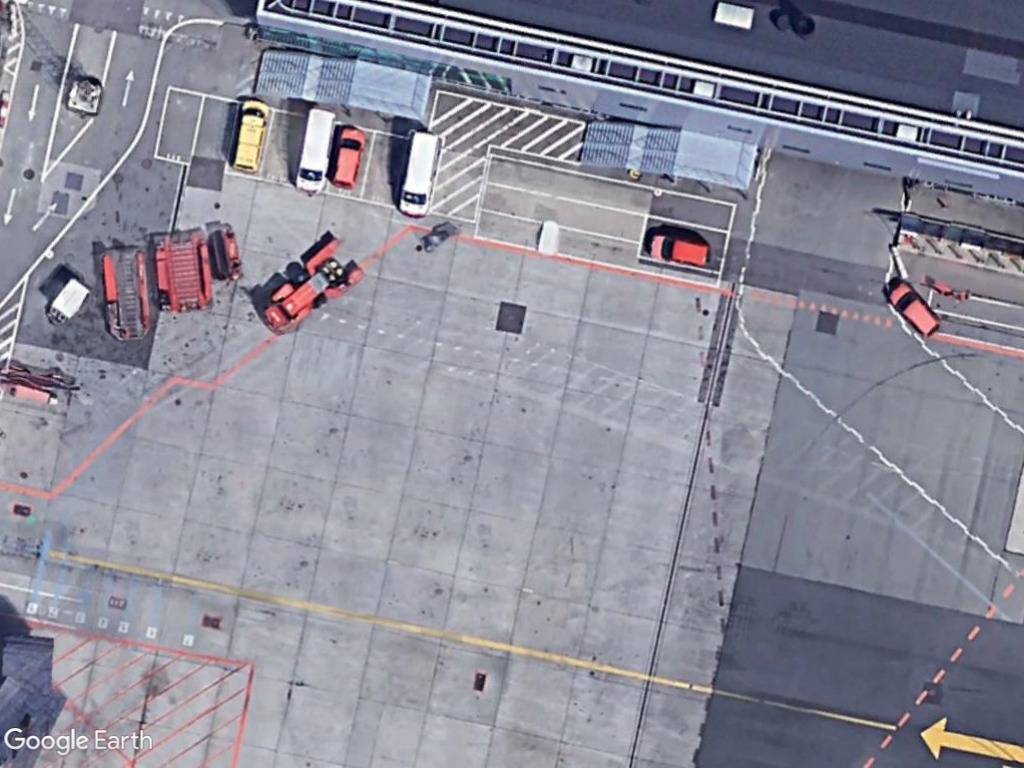car: (882, 273, 949, 346), (643, 226, 719, 275), (325, 121, 368, 193)
pushbacktruck: (253, 234, 367, 345)
van: (289, 97, 341, 202), (392, 126, 446, 223), (226, 93, 272, 179)
